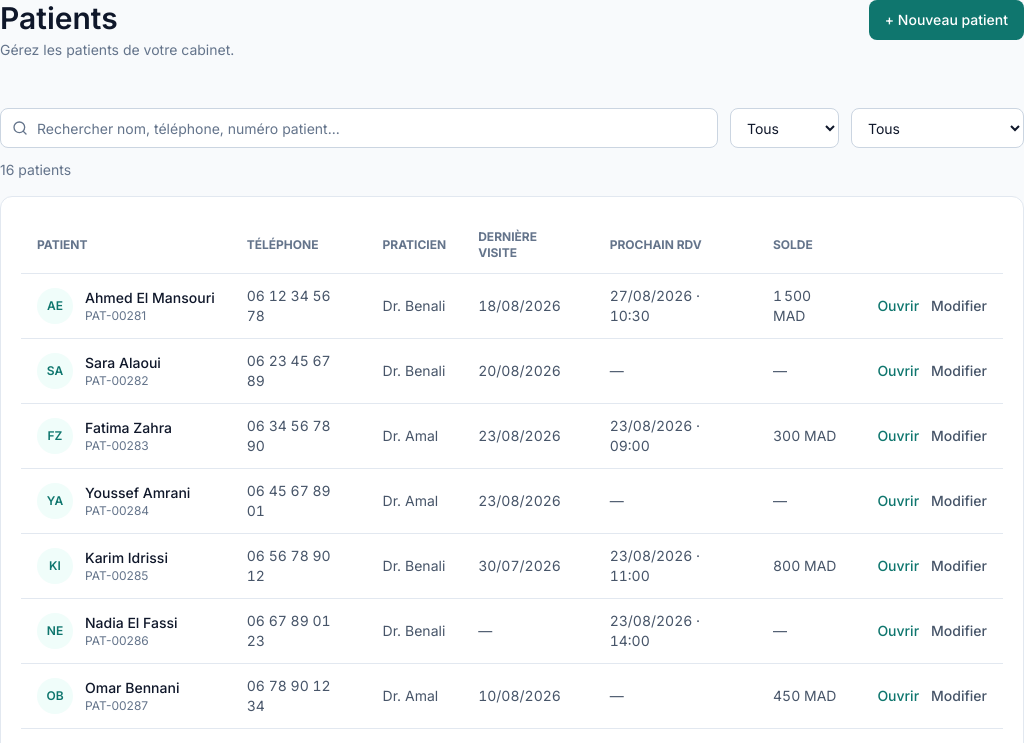
PatientsPage › filters by next appointment (8)
The image size is (1024, 743).
Select "Aujourd'hui" in the dropdown named "Prochain rendez-vous" at (938, 128), box [851, 108, 1023, 148]
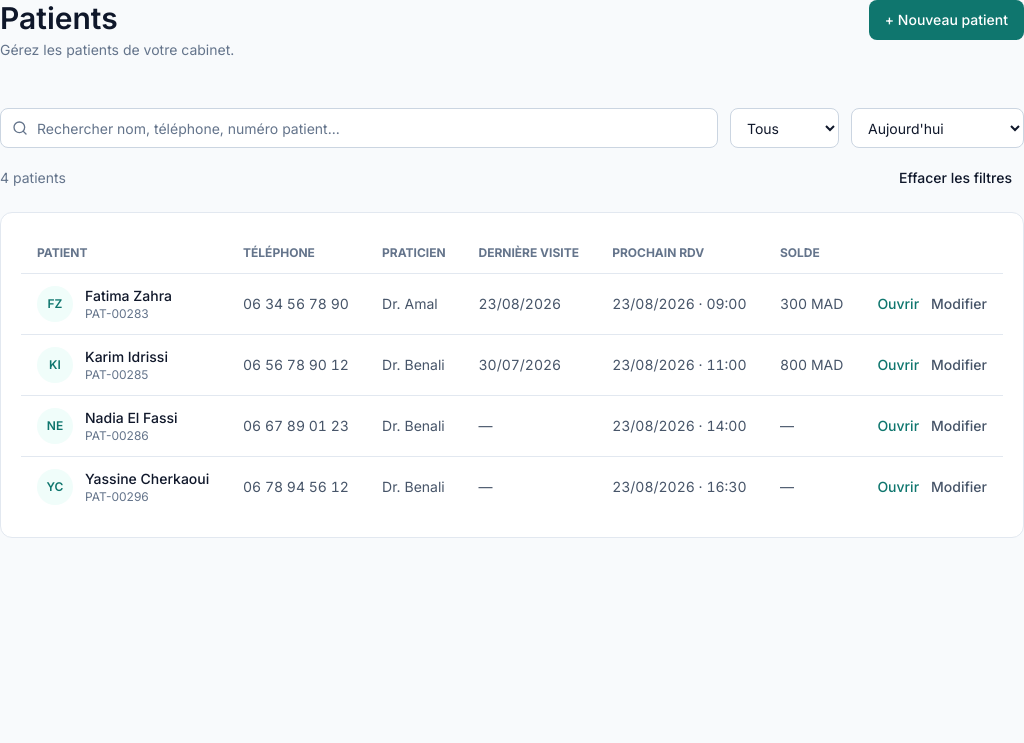
Expected: the text "Fatima Zahra" is shown, [85, 286, 172, 306]
Now the text "Ahmed El Mansouri" is gone
